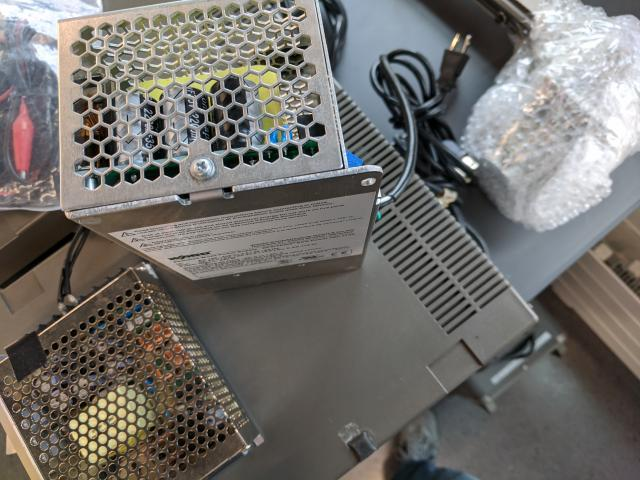CRS: (189, 154, 216, 182)
